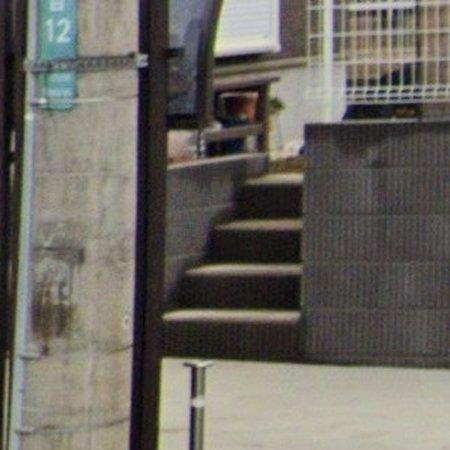stairs: (164, 173, 304, 361)
